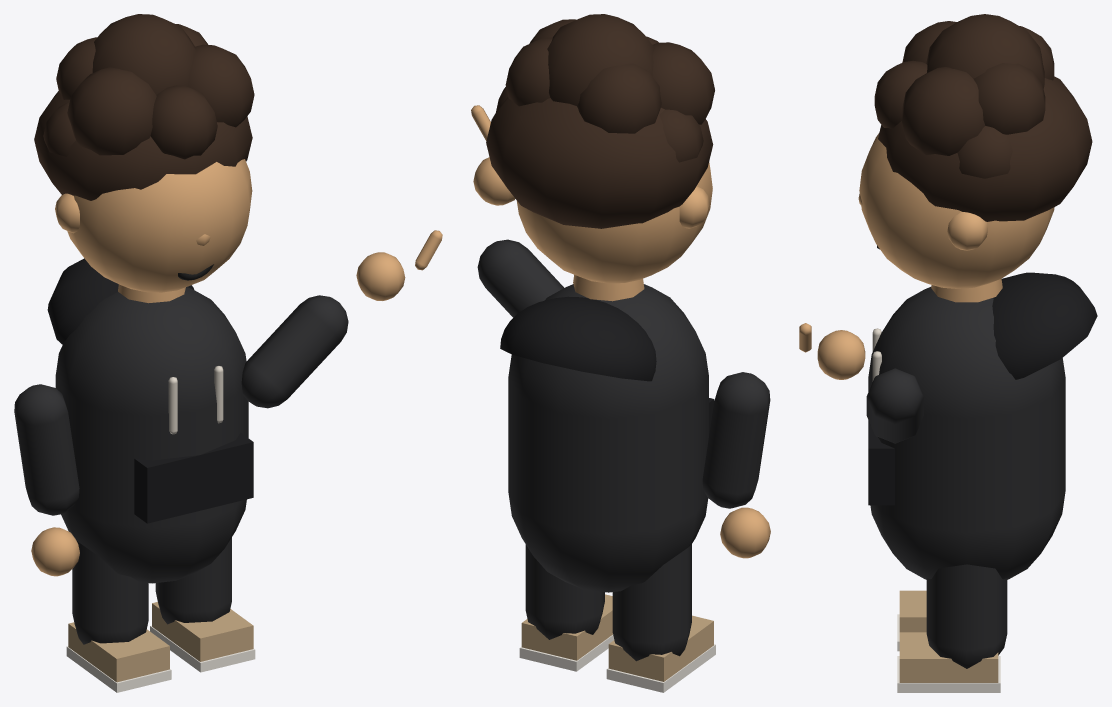
Rendered from hoodie-male.glb.
The picture shows the model from 3 angles, left to right: view 1: azimuth 30°, elevation 25°; view 2: azimuth 150°, elevation 25°; view 3: azimuth 270°, elevation 25°; orthographic projection. The views are drawn at different scales.
Parts seen in each view (by area): view 1: HoodieMale; view 2: HoodieMale; view 3: HoodieMale.
Boxes of the visible parts, box(x1,y1,x2,y2) form: HoodieMale: box(14, 14, 442, 692); HoodieMale: box(471, 14, 770, 692); HoodieMale: box(799, 14, 1097, 692).
Size of the model in its own units: 0.4669 by 0.786 by 0.3326.
